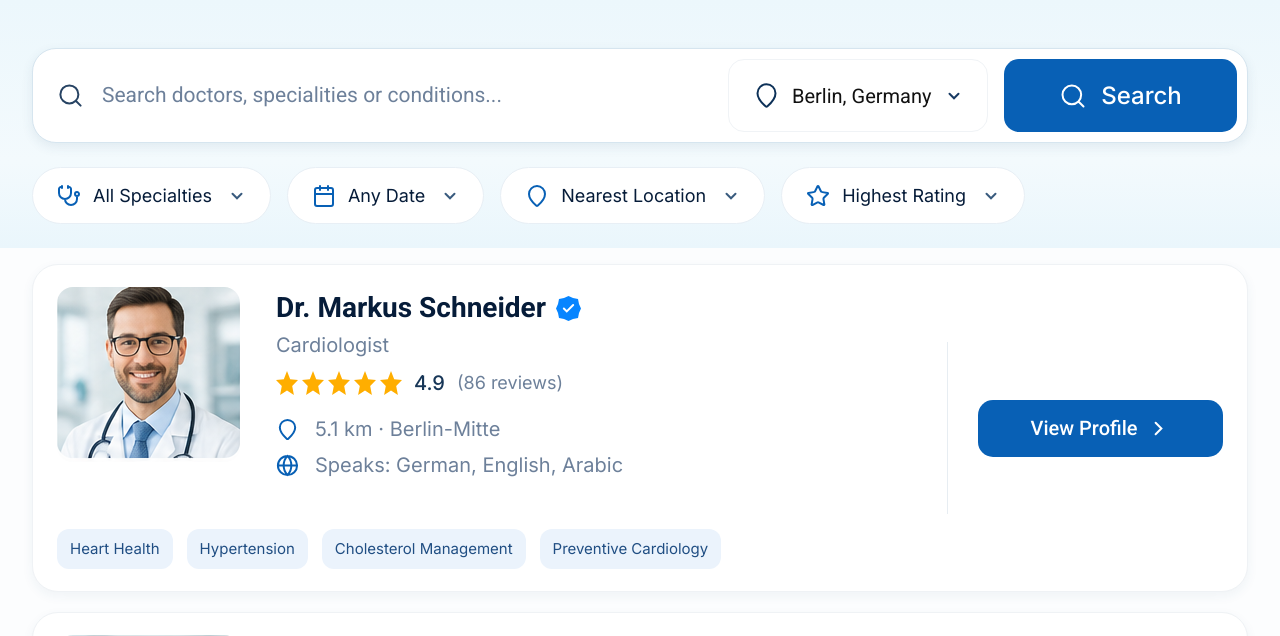
Test: Dashboard › narrows the list to the selected specialty
The width and height of the screenshot is (1280, 636).
What coordinates should you click on to do the following:
click the button "All Specialties"
I would click on:
 (151, 196)
Its box is x1=32 y1=167 x2=271 y2=224.
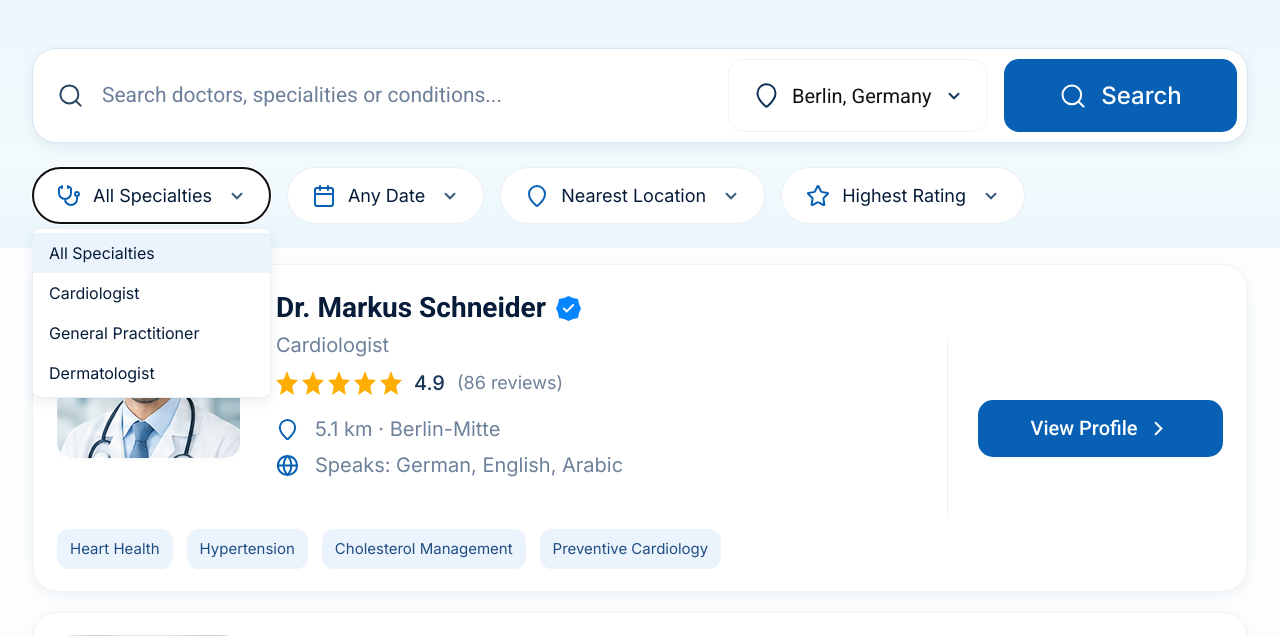
What coordinates should you click on to do the following:
click the menu item "Dermatologist"
I would click on:
 (151, 373)
Its box is x1=33 y1=353 x2=270 y2=393.
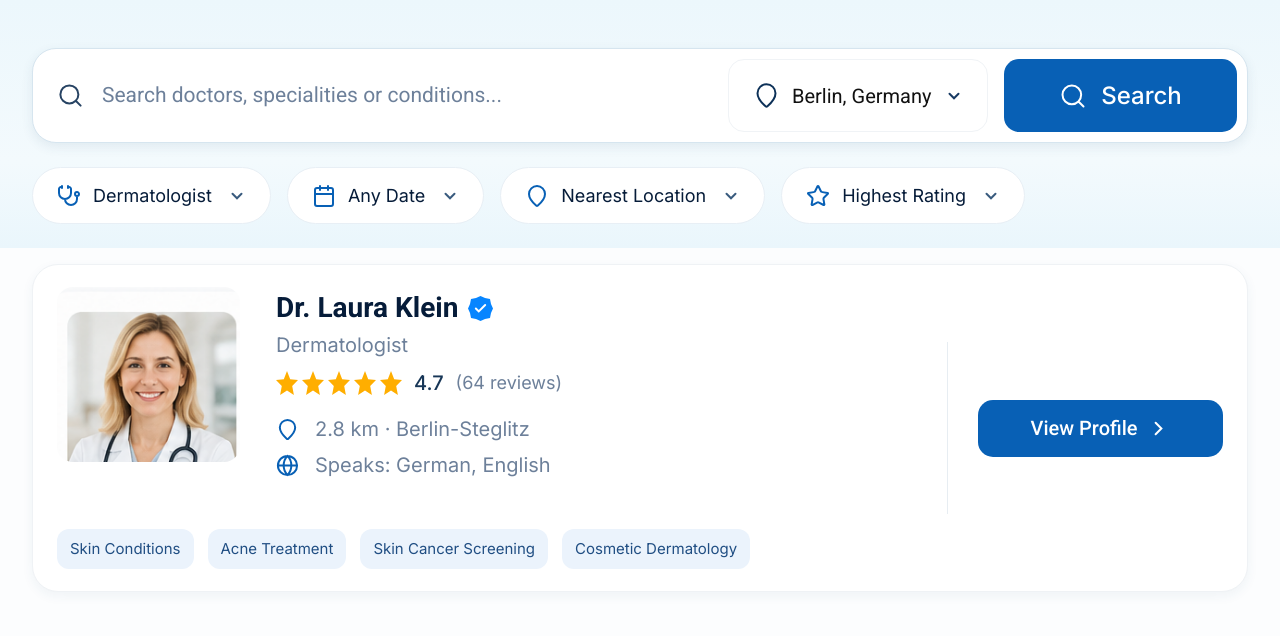
Check: the heading "Dr. Laura Klein" is shown, box x1=276 y1=291 x2=458 y2=325
Check: the heading "Dr. Markus Schneider" is gone
